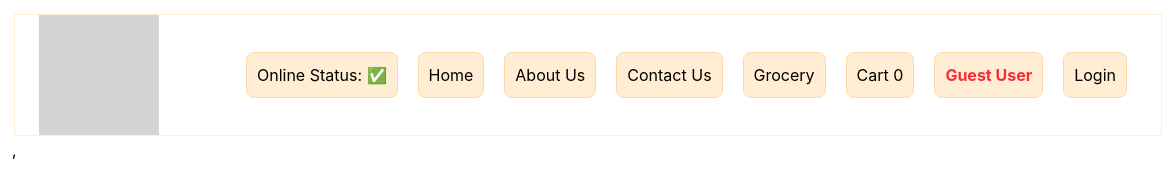
Test: Should change login button to logout onClick
Click the button "Login" at (1095,75), box x1=1074 y1=63 x2=1116 y2=87
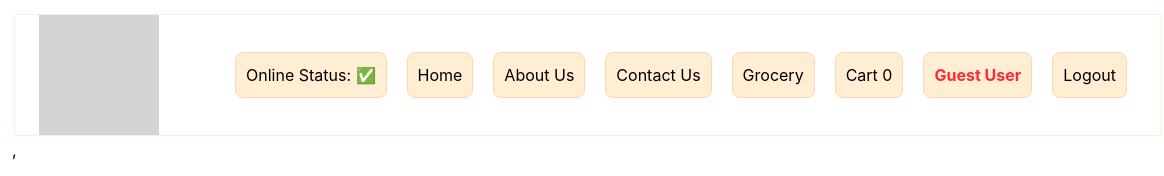
expect the button "Logout" is shown: met, box x1=1063 y1=63 x2=1116 y2=87
